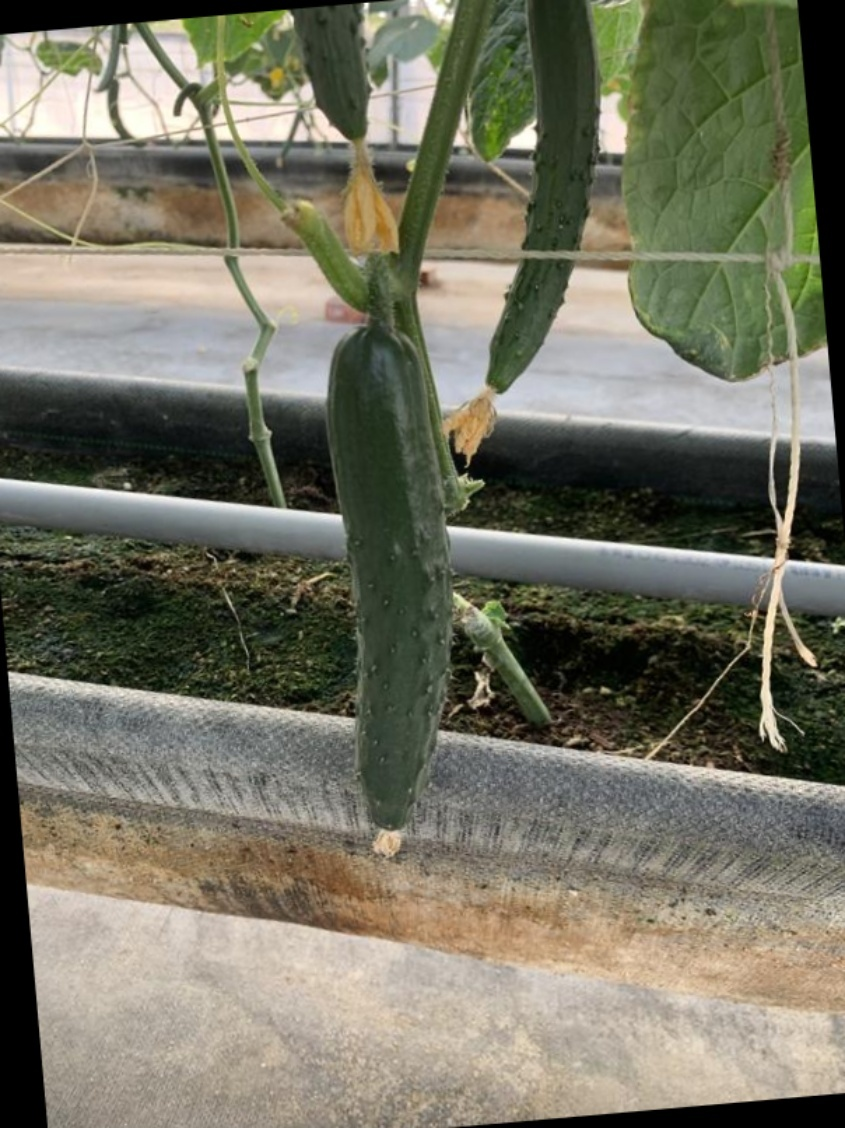mature: (318, 322, 455, 851)
